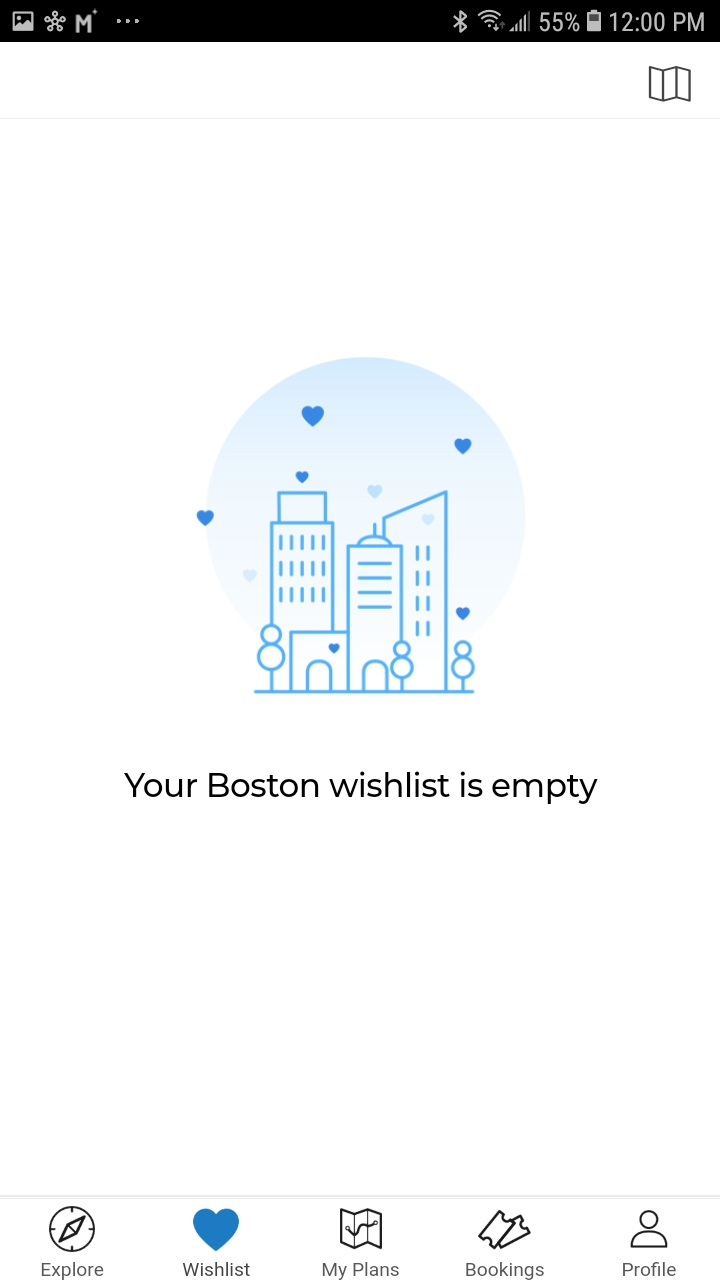Icon: (49, 1206, 96, 1252), (478, 1210, 531, 1250), (193, 1208, 240, 1251), (340, 1208, 383, 1249), (648, 66, 692, 103), (631, 1210, 668, 1248)
Image: (196, 357, 524, 695)
Text: (124, 771, 598, 805), (465, 1261, 544, 1280), (322, 1261, 400, 1280), (42, 1261, 104, 1280), (183, 1262, 251, 1277), (623, 1261, 677, 1277)
UpperTaskBar: (1, 1, 720, 43)
